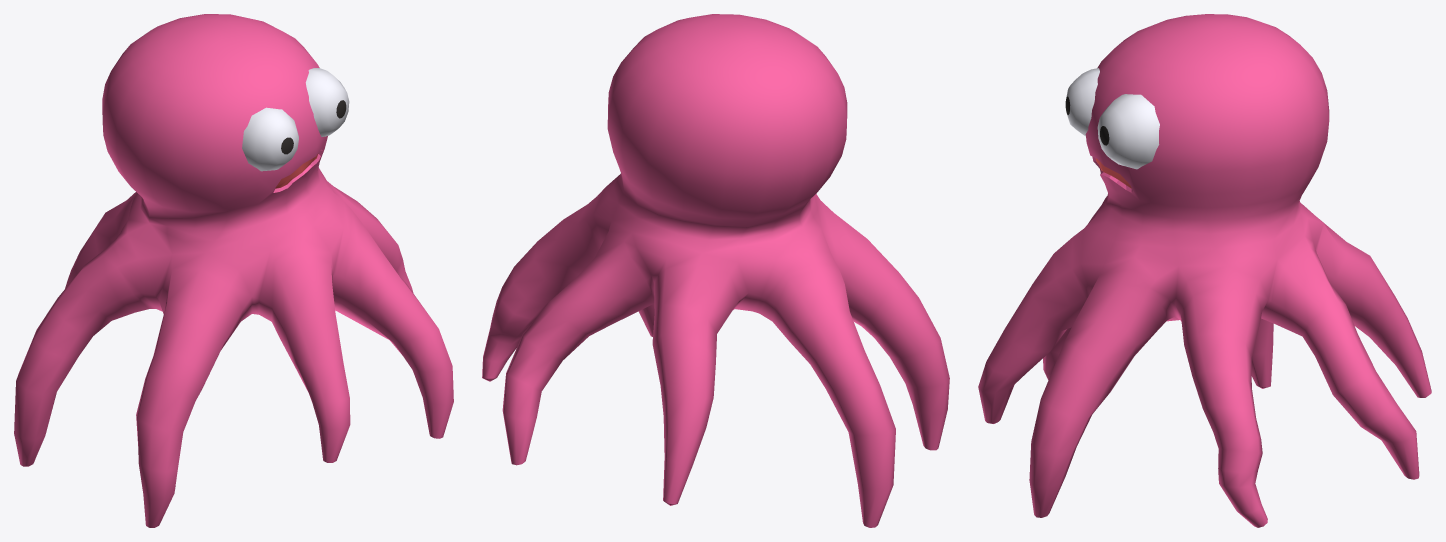
File: Hat_75_03.fbx
3 views of the same model, side by side, from view 1: azimuth 30°, elevation 25°; view 2: azimuth 150°, elevation 25°; view 3: azimuth 270°, elevation 25° (orthographic). The views are drawn at different scales.
Parts seen in each view (by area): view 1: Hat_75_03; view 2: Hat_75_03; view 3: Hat_75_03.
Part boxes in pixels (x1,y1,x2,y2): Hat_75_03: [14, 14, 453, 527]; Hat_75_03: [482, 14, 949, 527]; Hat_75_03: [978, 14, 1431, 527].
Bounding box in the file's own units: 38.88 × 39.75 × 36.57.
